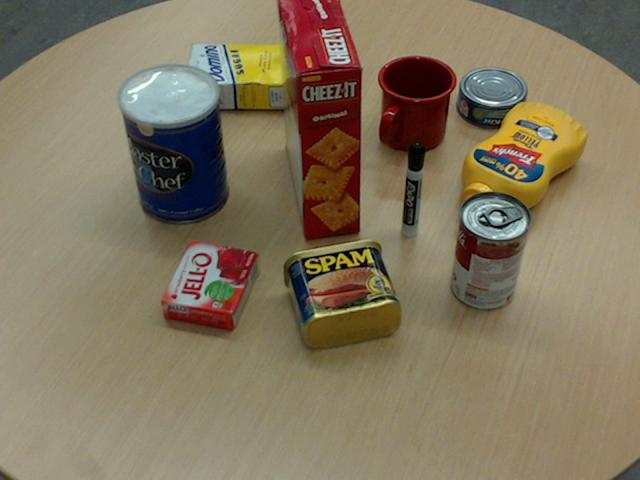cracker_box: (276, 0, 361, 238)
gelatin_box: (160, 239, 258, 329)
large_marker: (402, 143, 425, 236)
master_chef_can: (118, 63, 228, 224)
mug: (377, 55, 456, 151)
mustard_bottle: (459, 102, 585, 221)
potted_meat_can: (281, 237, 400, 346)
sugar_box: (184, 43, 327, 108)
tomato_soup_can: (451, 190, 530, 309)
tuna_fish_can: (455, 67, 525, 127)
